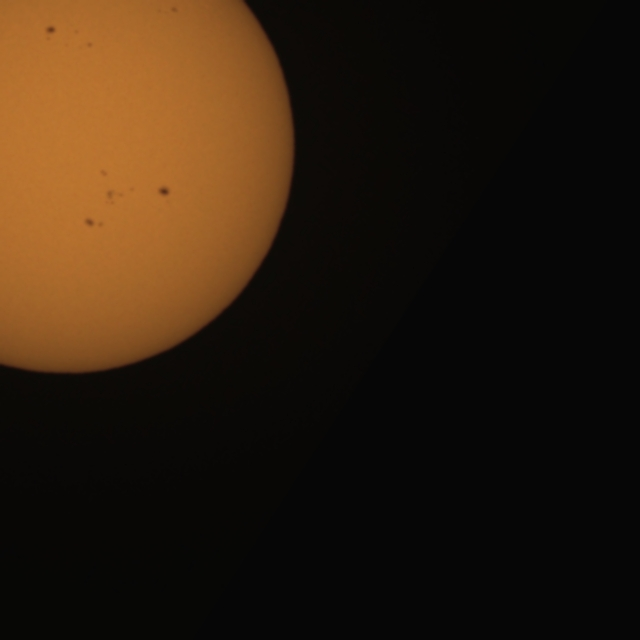sunspot: (104, 186, 135, 207), (83, 216, 105, 230), (156, 5, 179, 16), (156, 184, 172, 199), (44, 24, 57, 42), (78, 37, 94, 51), (98, 168, 109, 179), (84, 40, 94, 50), (170, 5, 179, 14), (73, 28, 80, 36)
